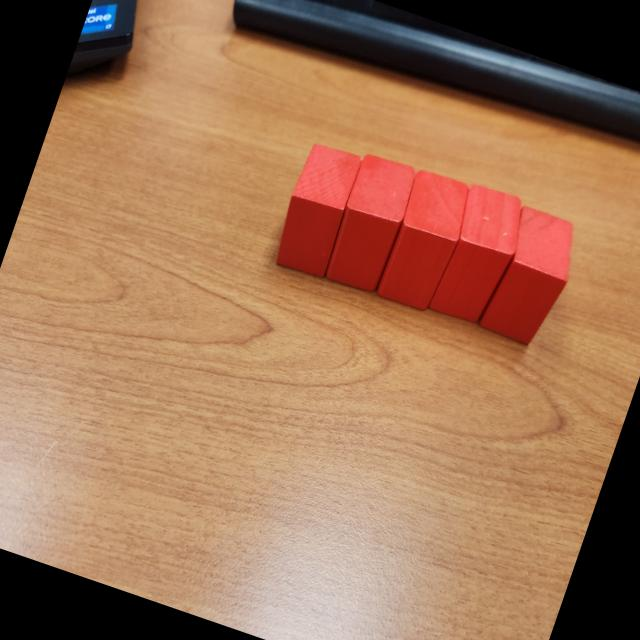red: (473, 200, 587, 352), (426, 179, 532, 330), (372, 165, 477, 315), (319, 150, 420, 297), (268, 138, 366, 282)
